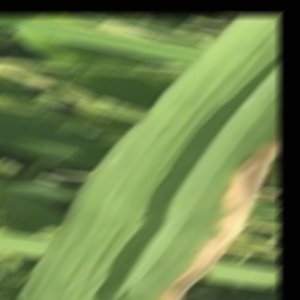Leaf_Blast: (93, 31, 273, 300)
